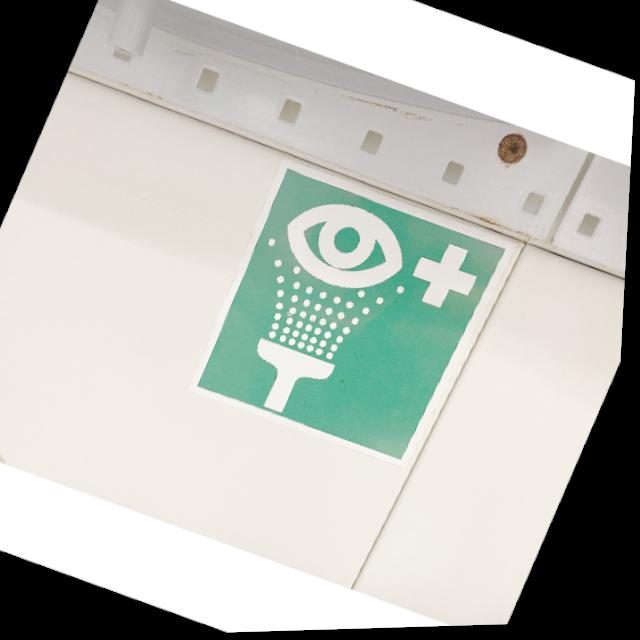eye shower: (184, 154, 525, 482)
